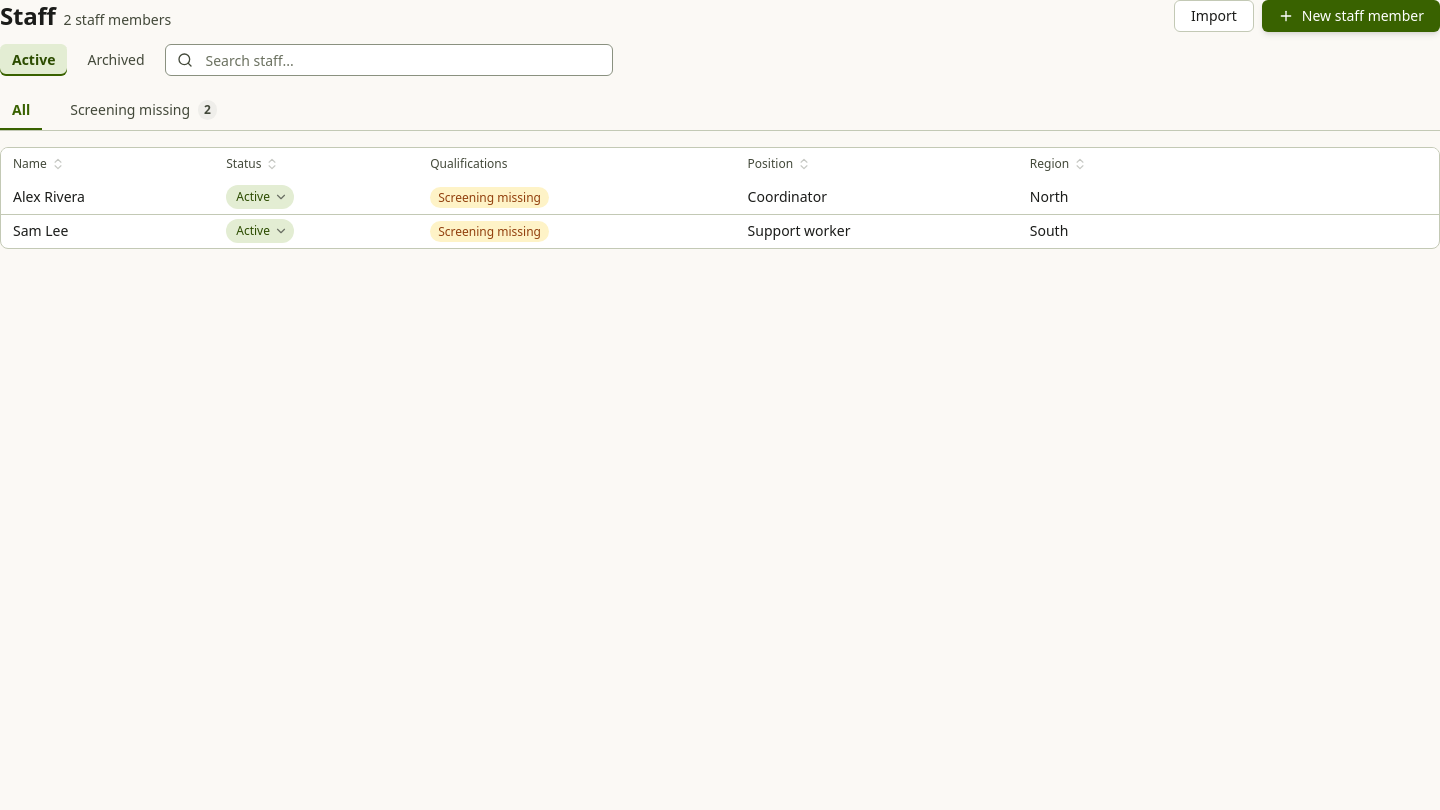
Test: StaffPage — refused writes are shown › closes the Mark inactive confirm and shows the server message when the change fails
The image size is (1440, 810).
Click the button "Active" next to "Alex Rivera".
click(260, 197)  # box [226,185,294,209]
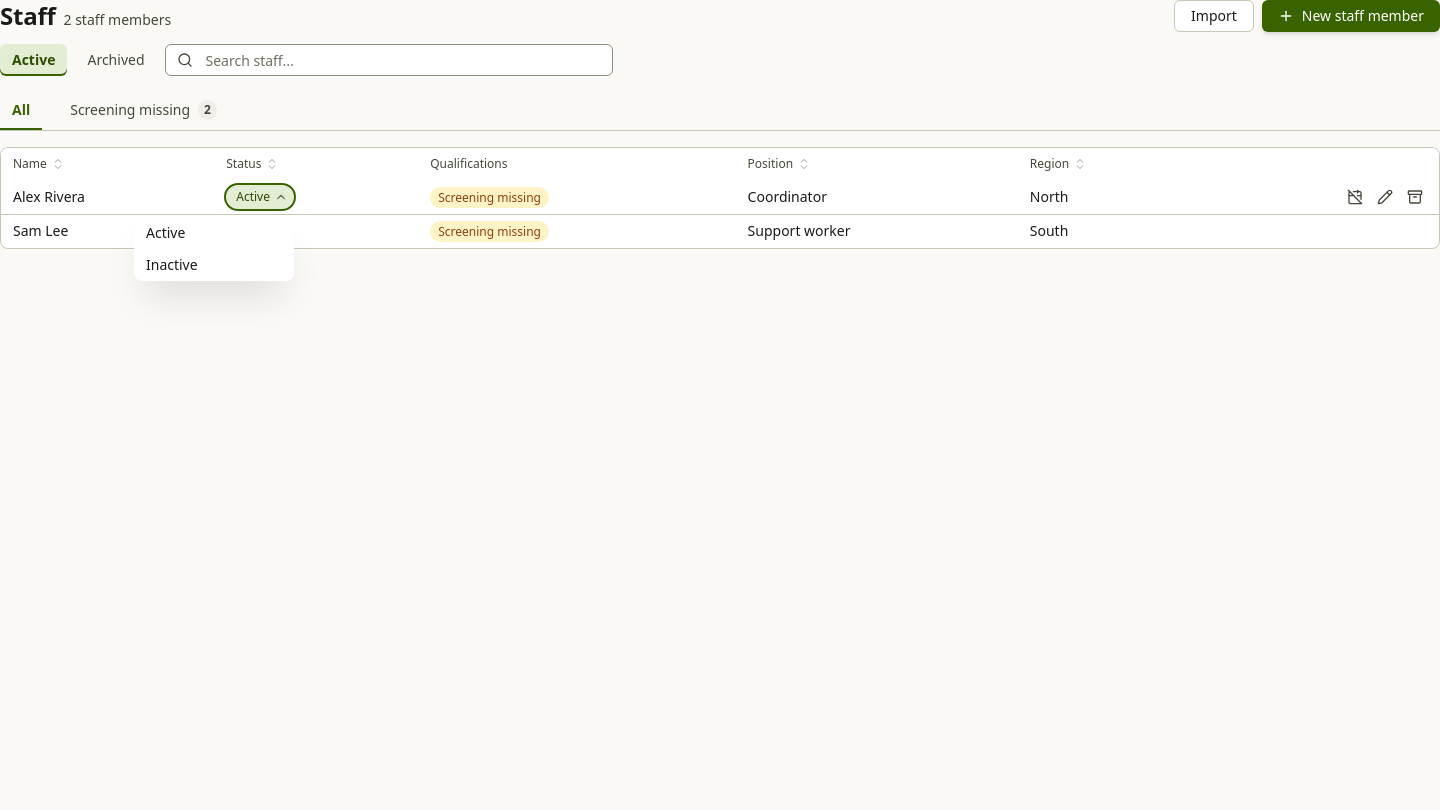
Click the option "Inactive".
click(172, 264)  # box [146,255,198,274]
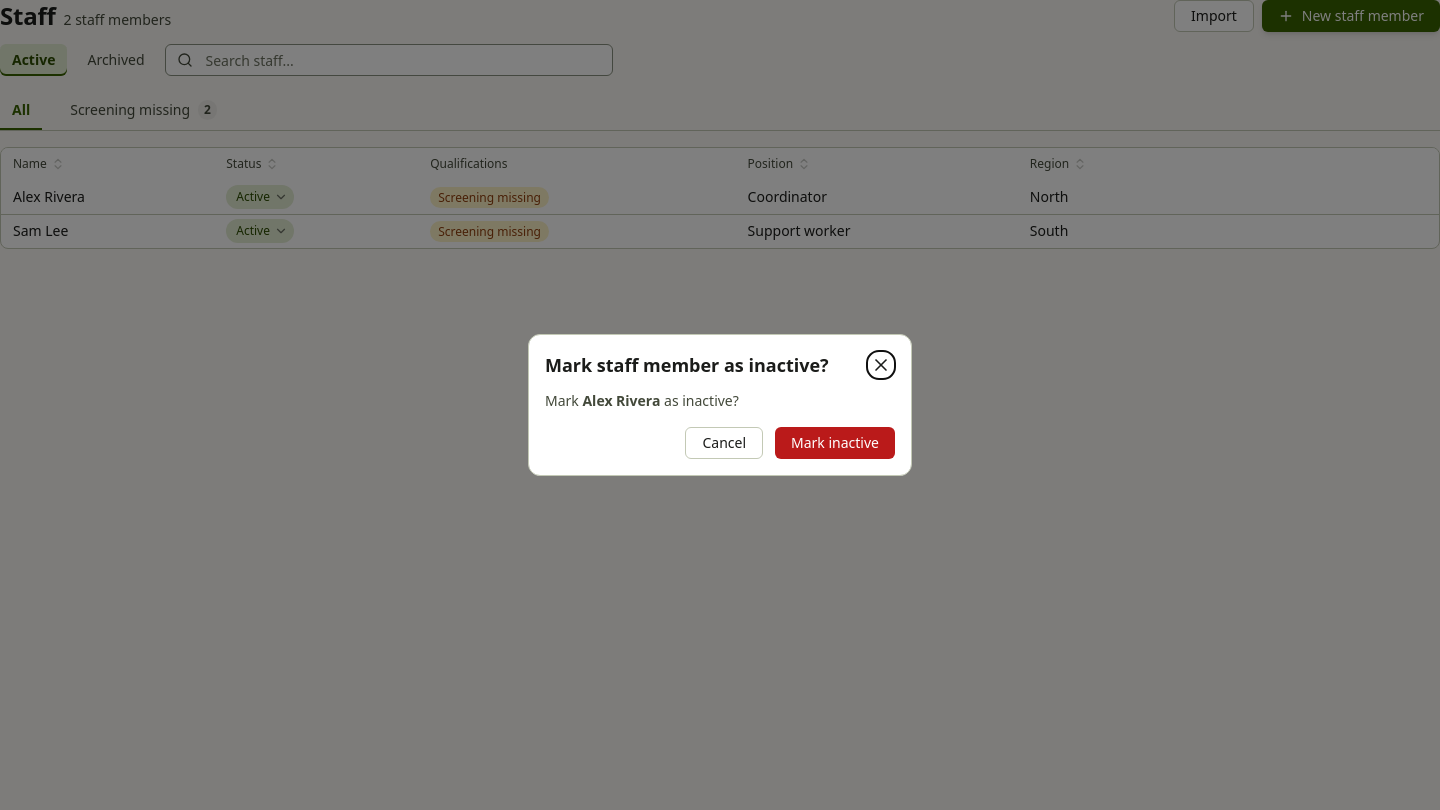
Click the button "Mark inactive".
click(835, 443)  # box [775,427,895,459]
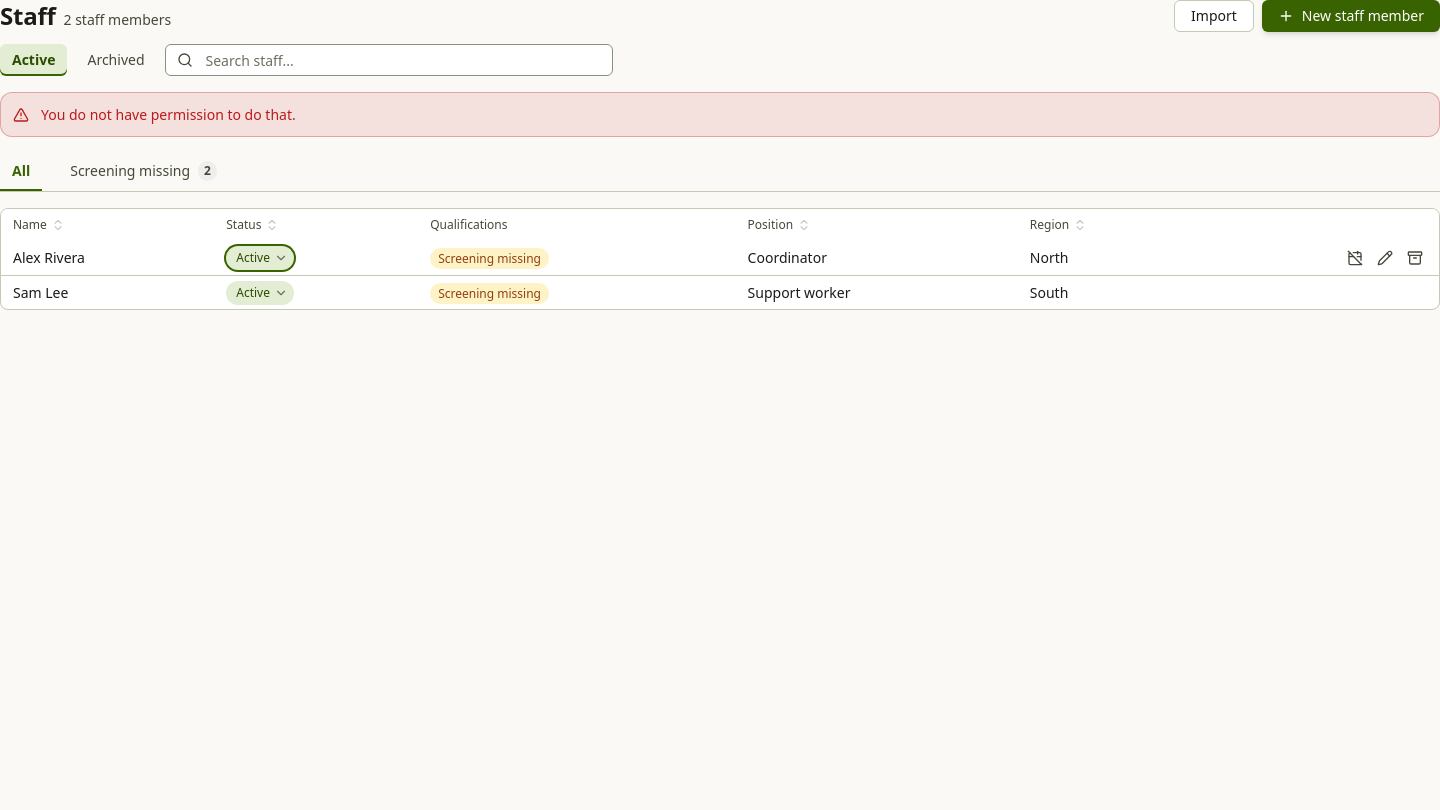
Now the dialog is gone
Now the text "You do not have permission to do that." is shown, box [41,105,296,124]
